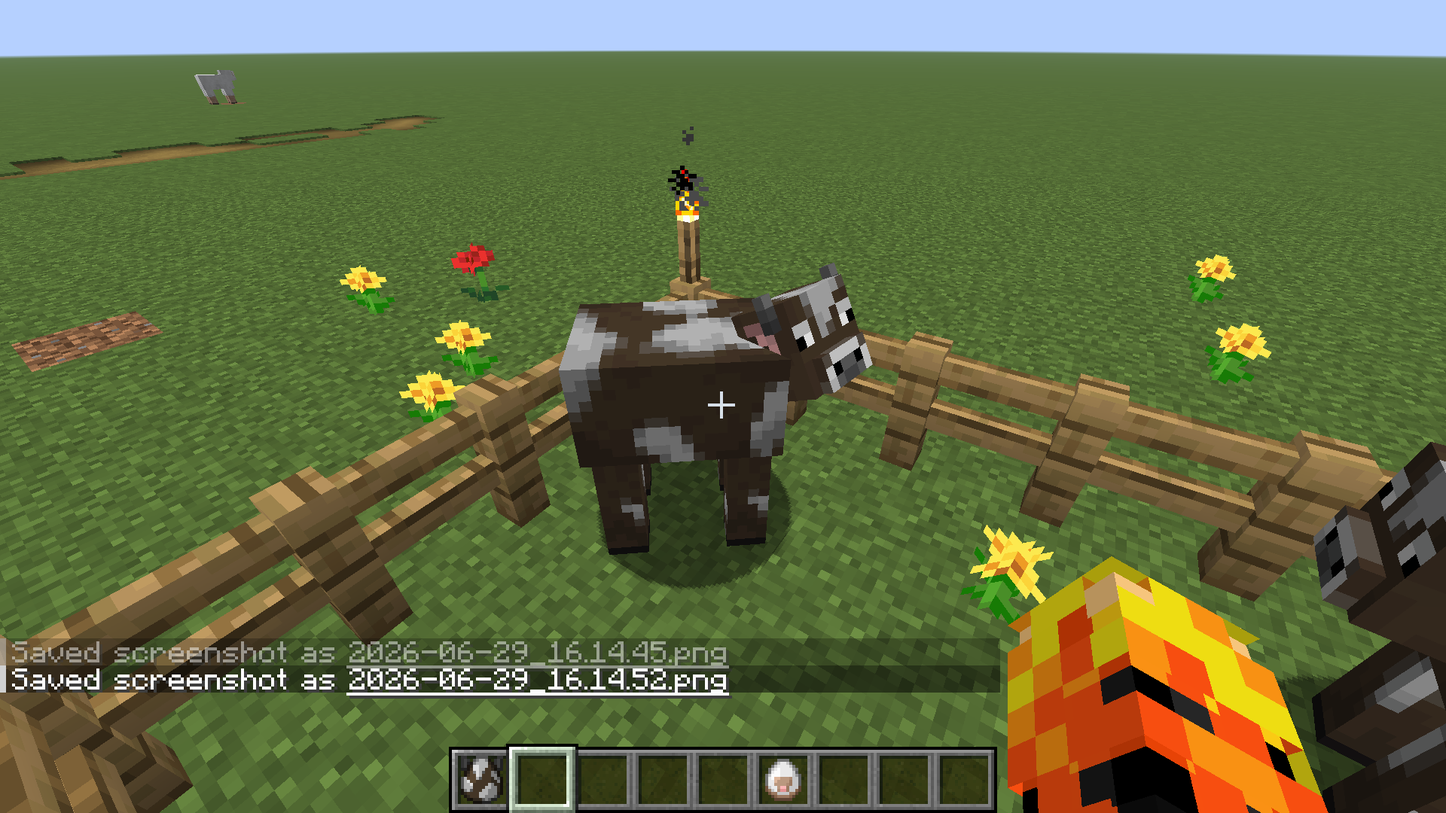Sheep: (190, 61, 245, 111)
Torch: (661, 145, 722, 290)
cow: (555, 264, 877, 554), (1310, 440, 1445, 812)
